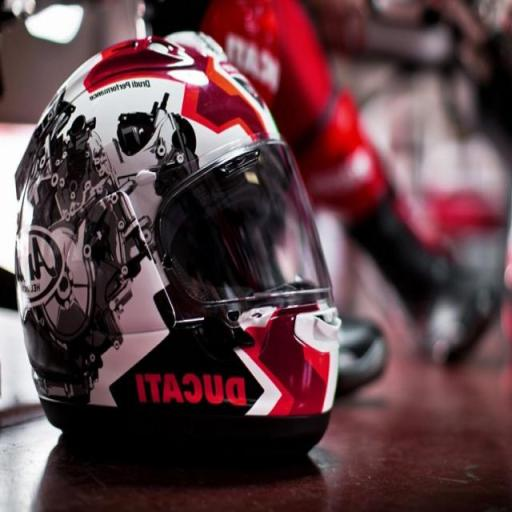Helmet: (35, 42, 341, 460)
